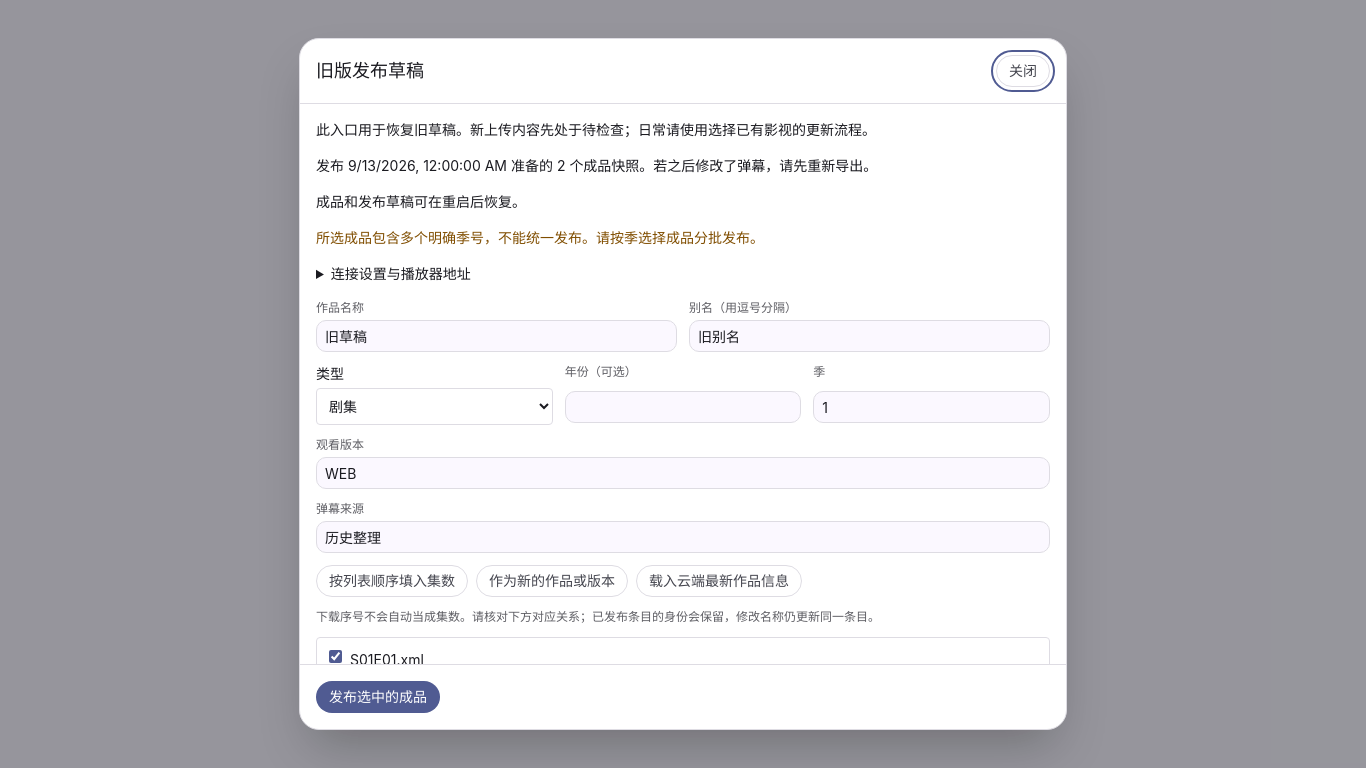
Test: restores an old mixed-season draft and CAS untouched but blocks publication visibly
Expected: the field labelled "作品名称" holds "旧草稿", top-left (316, 320), bottom-right (677, 352)
Click the button "发布选中的成品" at (378, 697), box top-left (316, 681), bottom-right (440, 713)
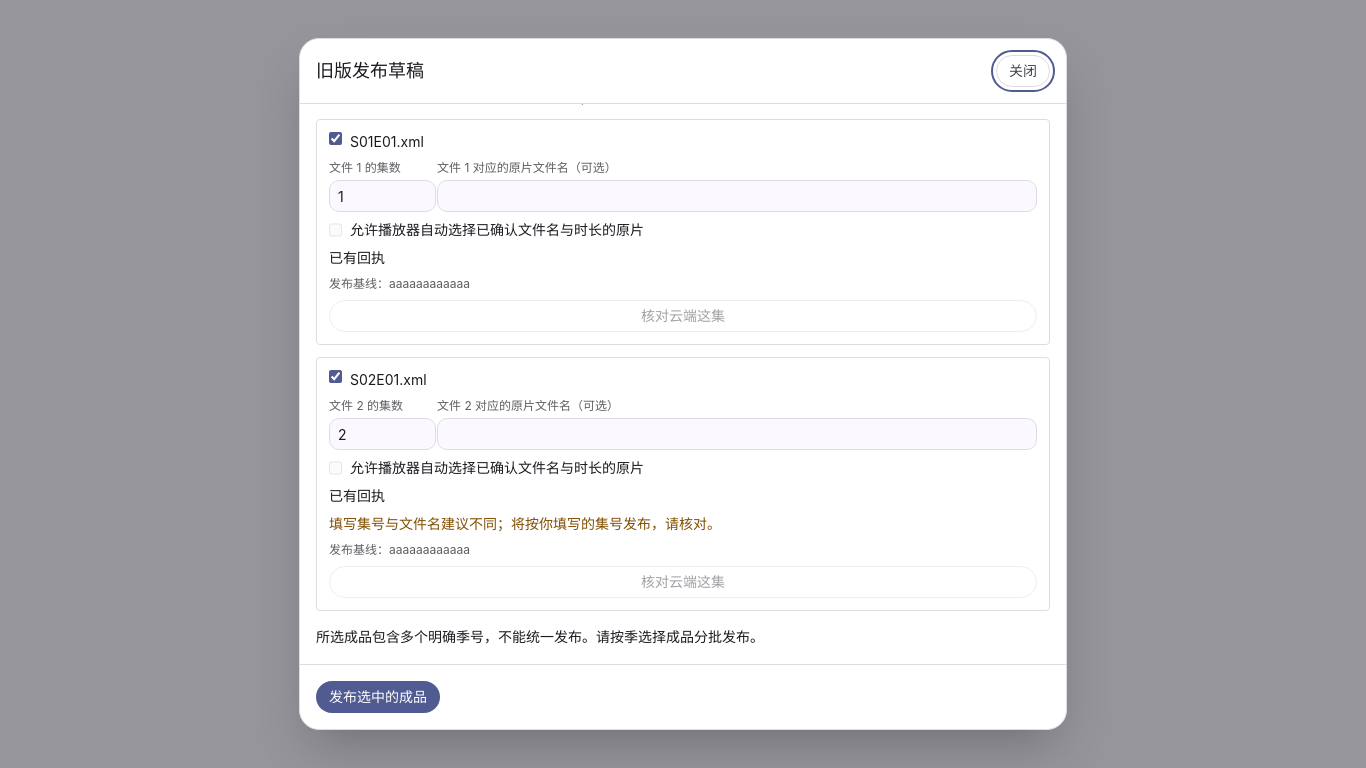
Expected: the number field labelled "文件 2 的集数" holds "2", top-left (329, 418), bottom-right (436, 450)
